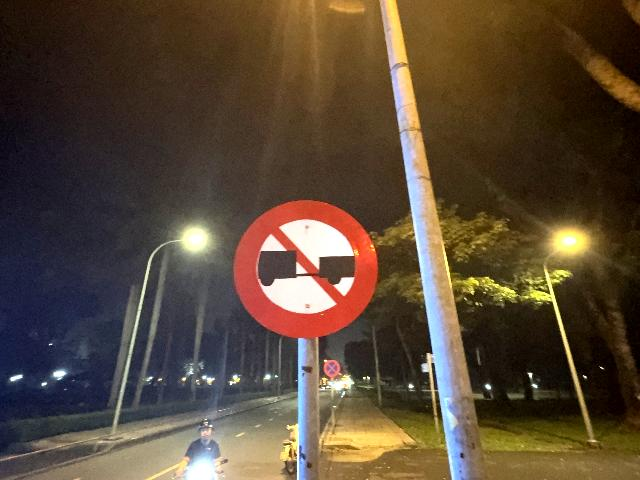cam-xe-somi-romooc: (233, 198, 380, 338)
